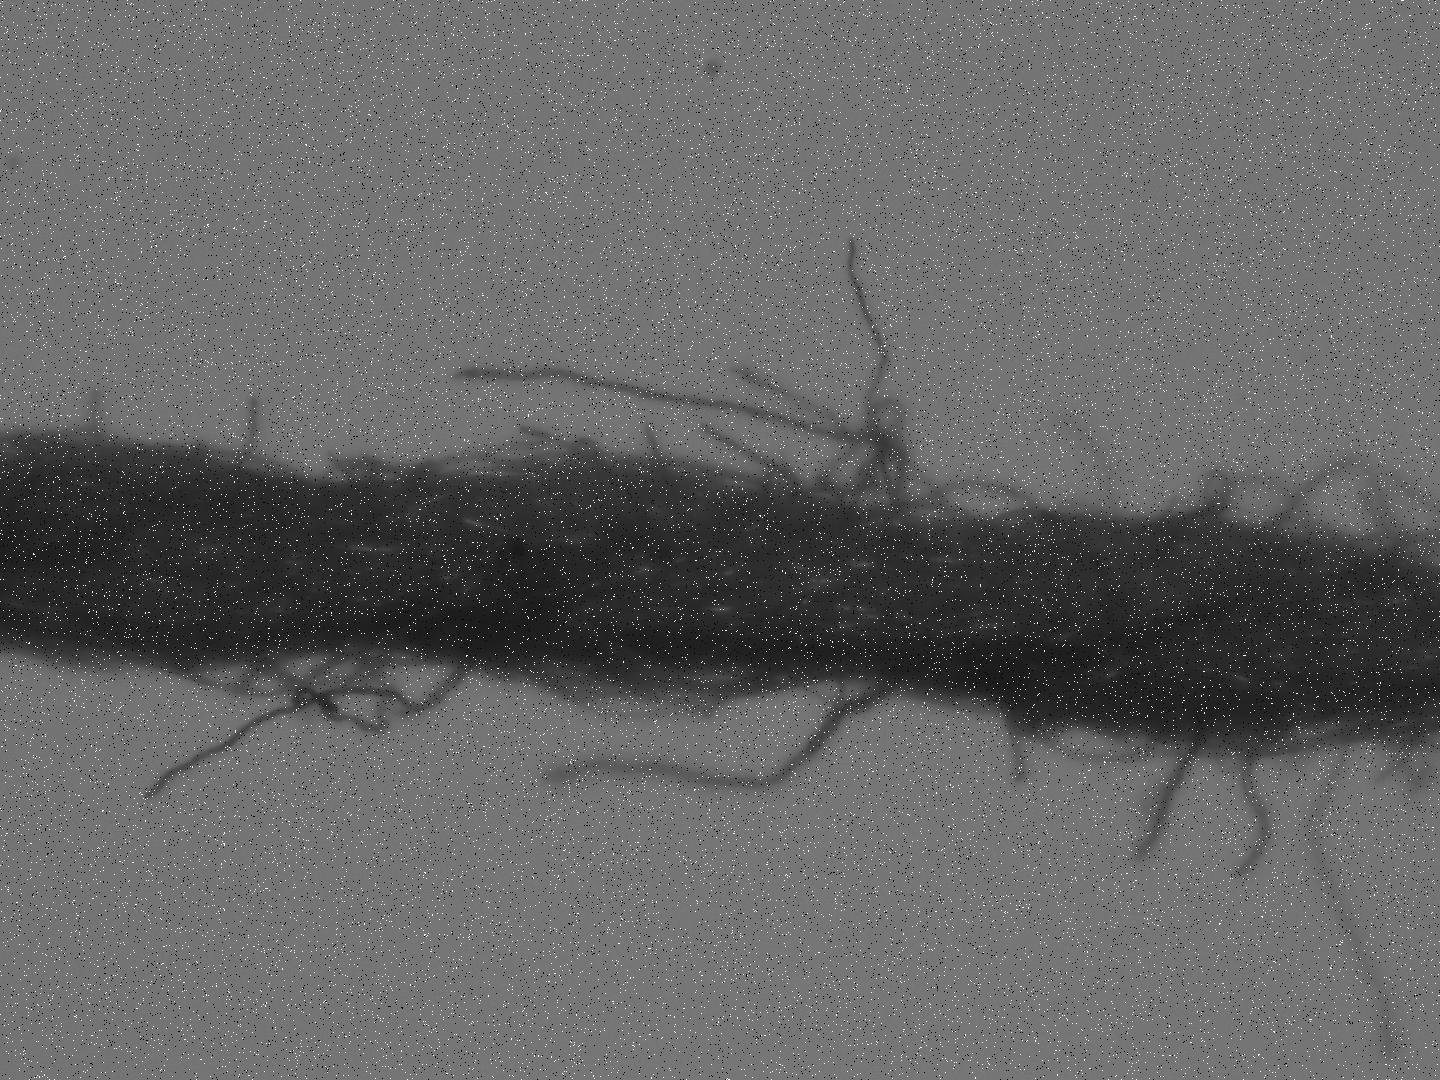loop_fiber: (1000, 709, 1440, 793), (115, 652, 476, 739), (1151, 454, 1440, 562), (756, 391, 983, 528), (523, 653, 889, 717), (856, 480, 1060, 520)
protruding_fiber: (449, 365, 897, 493), (134, 660, 474, 800), (554, 675, 914, 791), (1305, 724, 1391, 1063), (842, 238, 921, 532), (1129, 726, 1208, 864), (1233, 737, 1274, 876), (229, 396, 262, 474), (90, 395, 102, 449)
